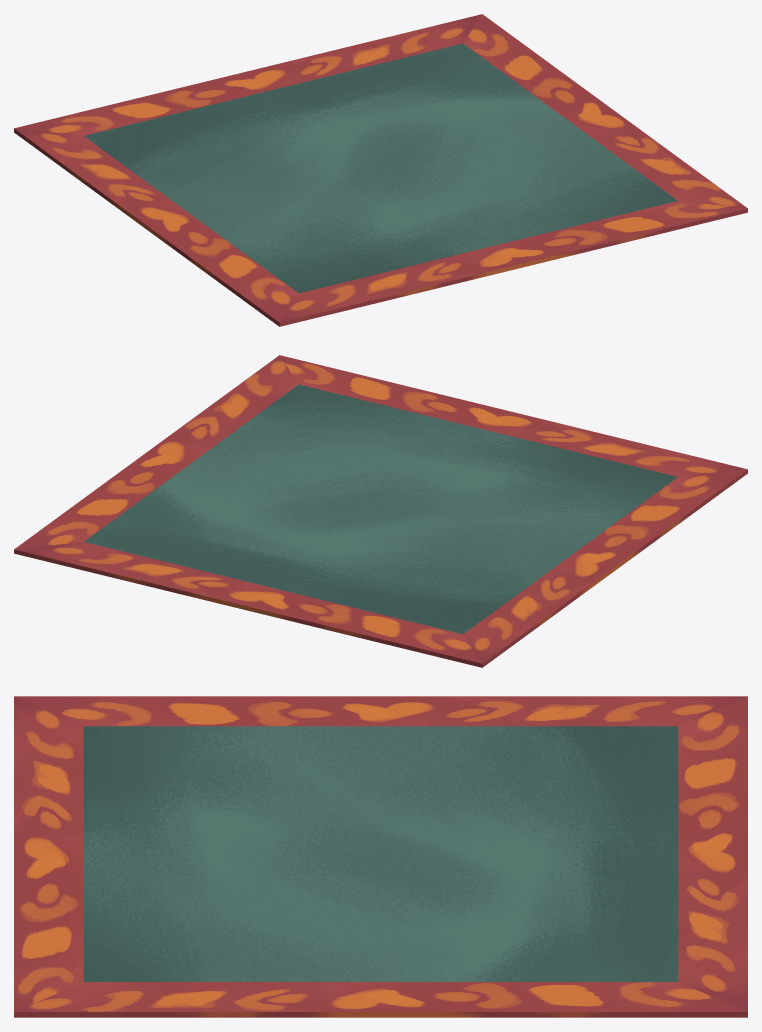
The model's file is carpet2.glb.
The picture shows the model from 3 angles, top to bottom: view 1: azimuth 30°, elevation 25°; view 2: azimuth 150°, elevation 25°; view 3: azimuth 270°, elevation 25°; orthographic projection. The views are drawn at different scales.
Parts seen in each view (by area): view 1: tapete2; view 2: tapete2; view 3: tapete2.
Boxes of the visible parts, x1,y1,x2,y2 form: tapete2: (14, 14, 747, 326); tapete2: (14, 355, 747, 667); tapete2: (14, 696, 747, 1017).
Size of the model in its own units: 4.03 by 0.034 by 3.96.
1 material, 1 textured.
